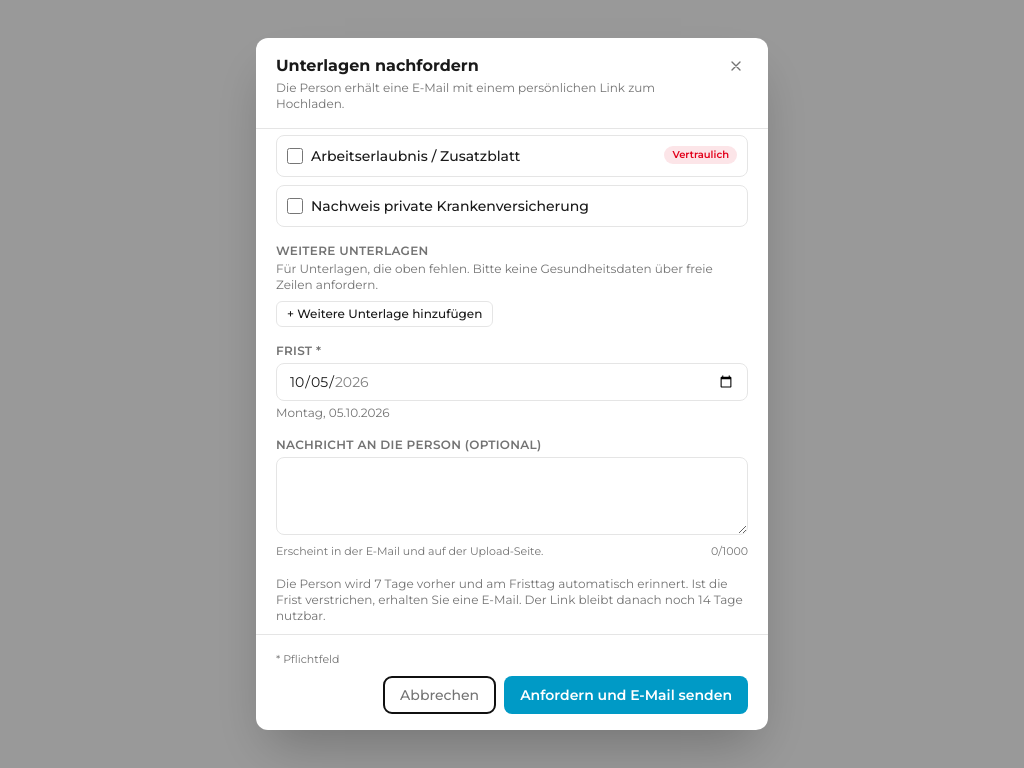
Test: Frist › Info-Satz aus dialogErinnerungsSatz — bei kurzer Frist ohne „7 Tage vorher“
(page scrolled)
Step 1. Type "2026-09-25" into the date field labelled "Frist *" → (512, 382), box [276, 363, 748, 401]
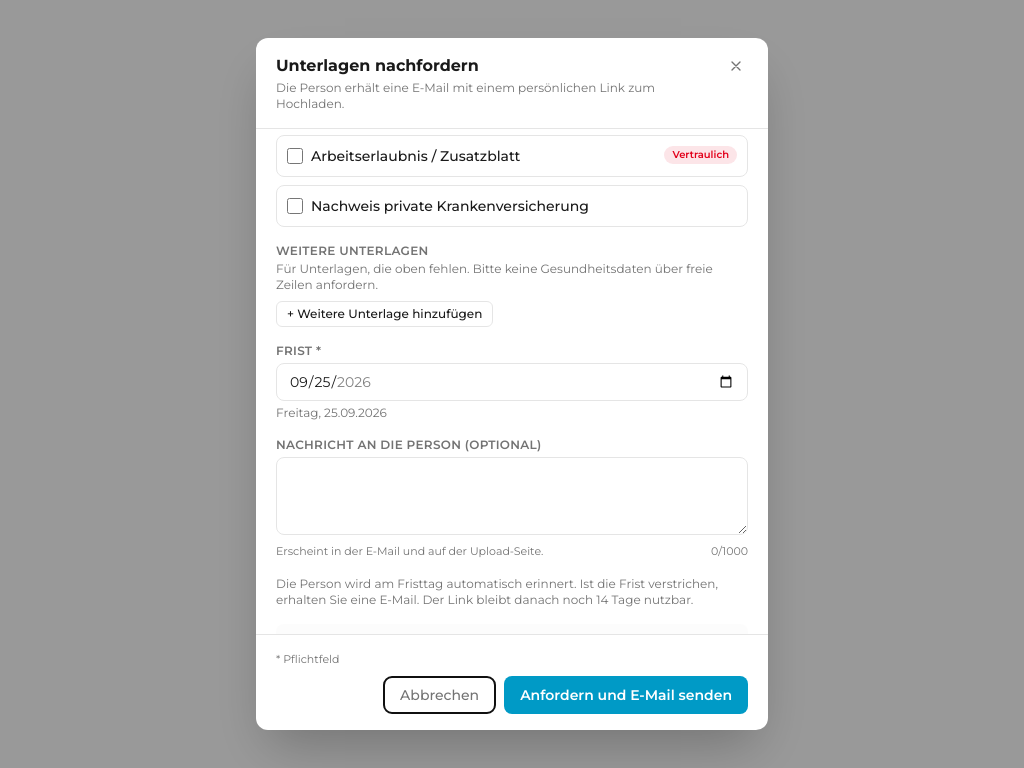
Expected: the text "am Fristtag" is shown, [276, 576, 718, 606]
Expected: the text "7 Tage vorher" is gone
